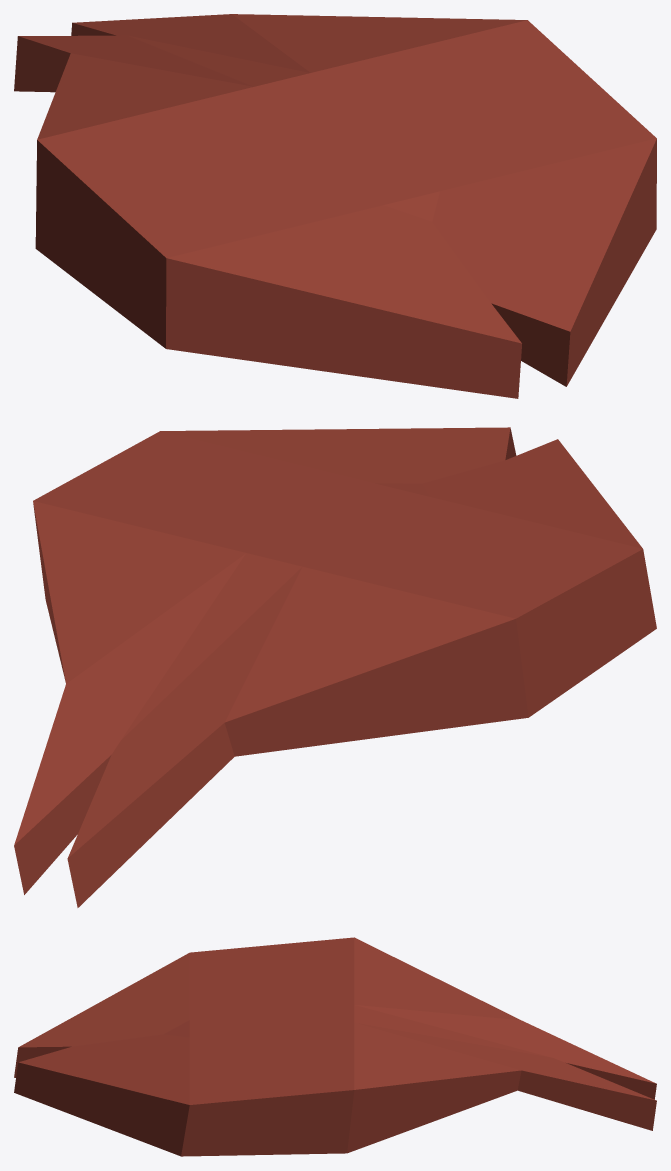
File: folha.glb
3 renders of one model, top to bottom at view 1: azimuth 30°, elevation 25°; view 2: azimuth 150°, elevation 25°; view 3: azimuth 270°, elevation 25°, orthographic. The views are drawn at different scales.
Visible parts, largest first — view 1: Plane; view 2: Plane; view 3: Plane.
Part boxes in pixels (x1=…): Plane: x1=14, y1=14, x2=656, y2=398; Plane: x1=14, y1=427, x2=656, y2=907; Plane: x1=14, y1=937, x2=656, y2=1156.
Bounding box in the file's own units: 0.1536 × 0.0514 × 0.2697.
